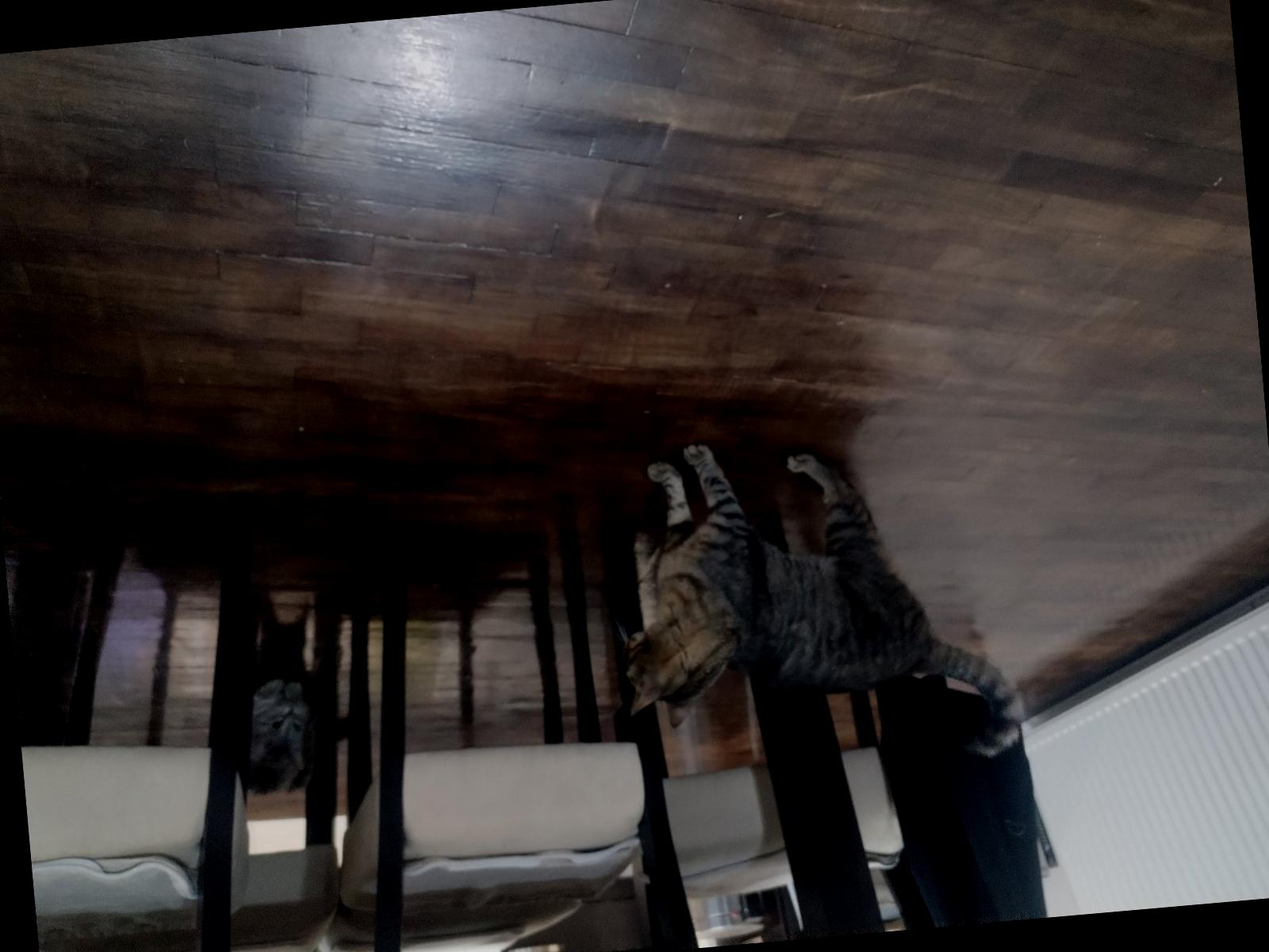macka: (600, 414, 1029, 790), (238, 675, 323, 800)
